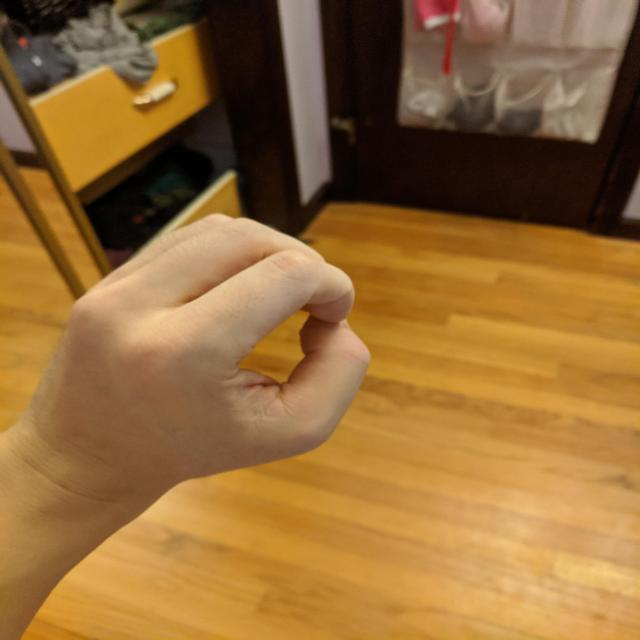O: (25, 209, 380, 497)
